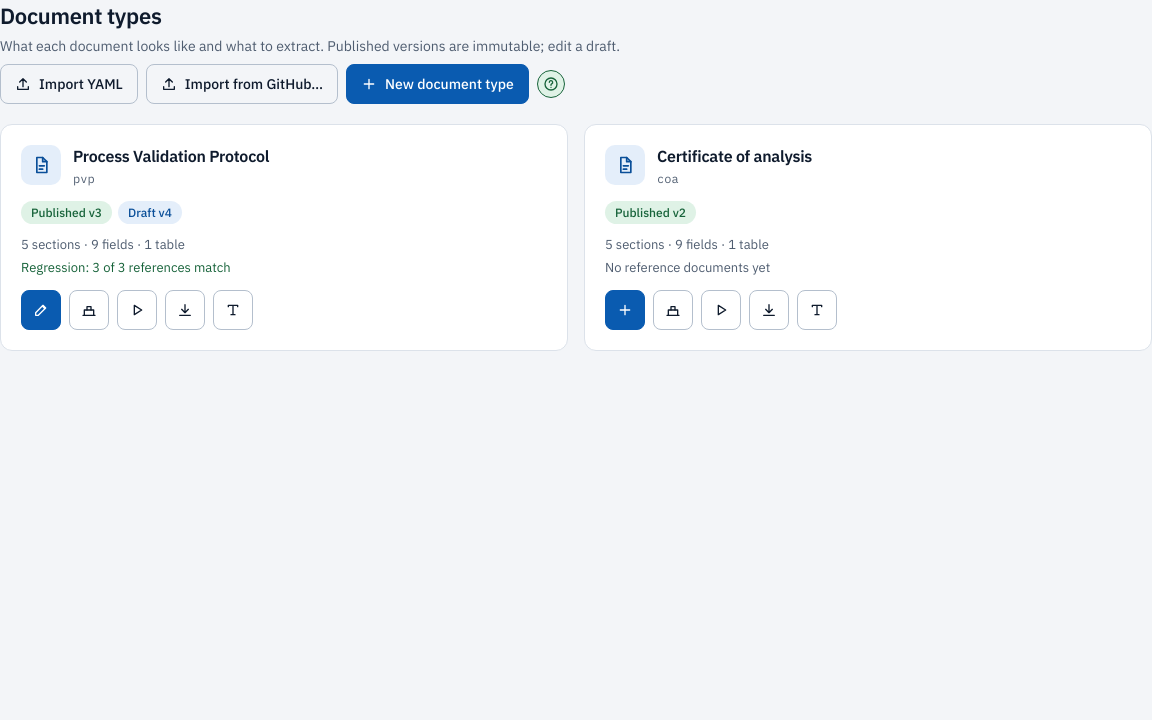
Test: TemplatesPage Rename… › keeps a refusal in the dialog
Click the button named "Rename Certificate of analysis…" at (817, 310), box [797, 290, 837, 330]
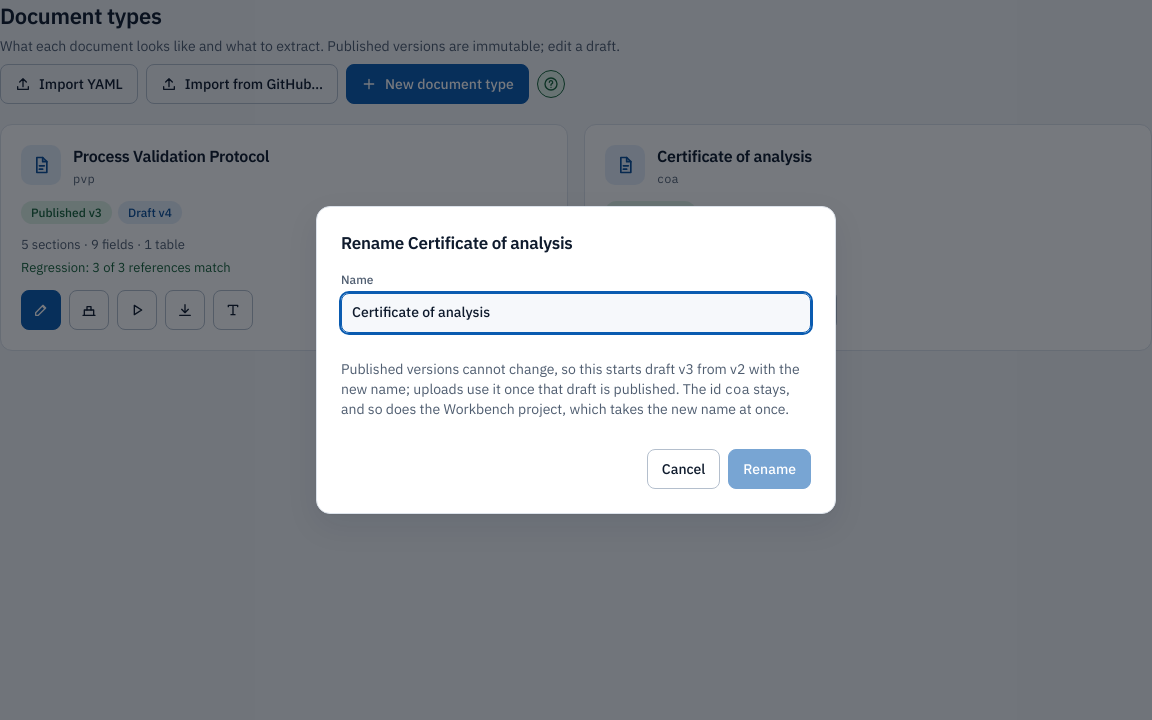
Type " (EU)" into the field labelled "Name" at (576, 313), box [341, 293, 811, 333]
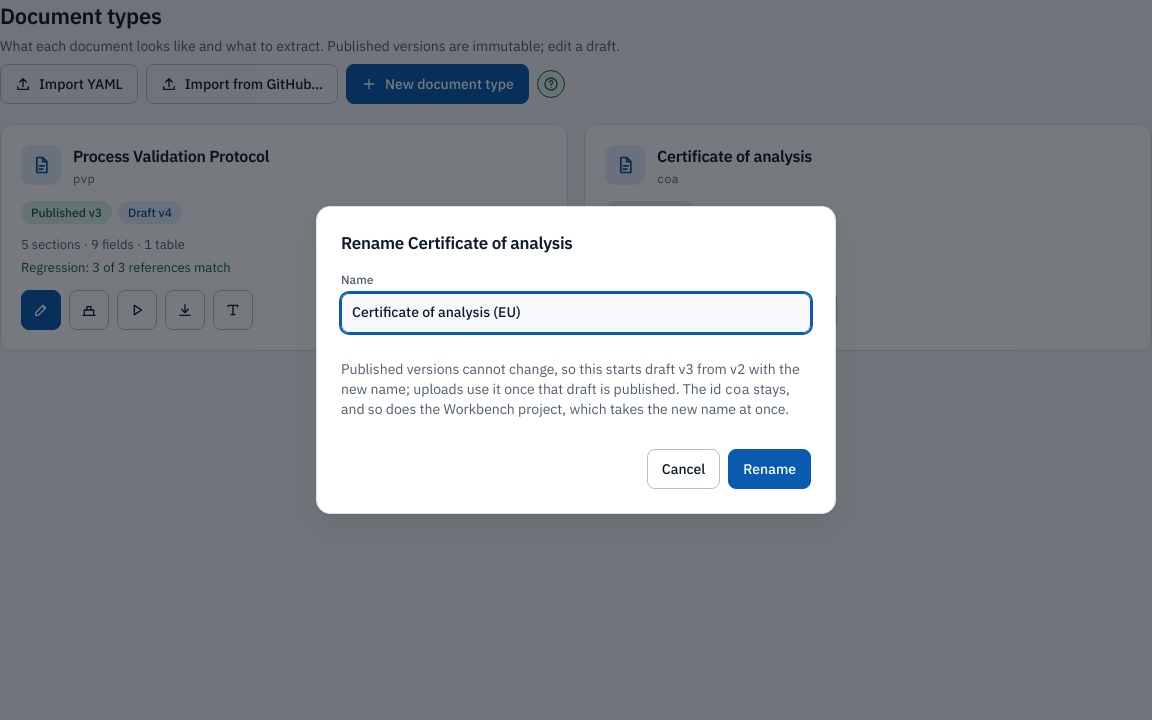
Click the button "Rename" at (770, 470), box [728, 450, 811, 490]
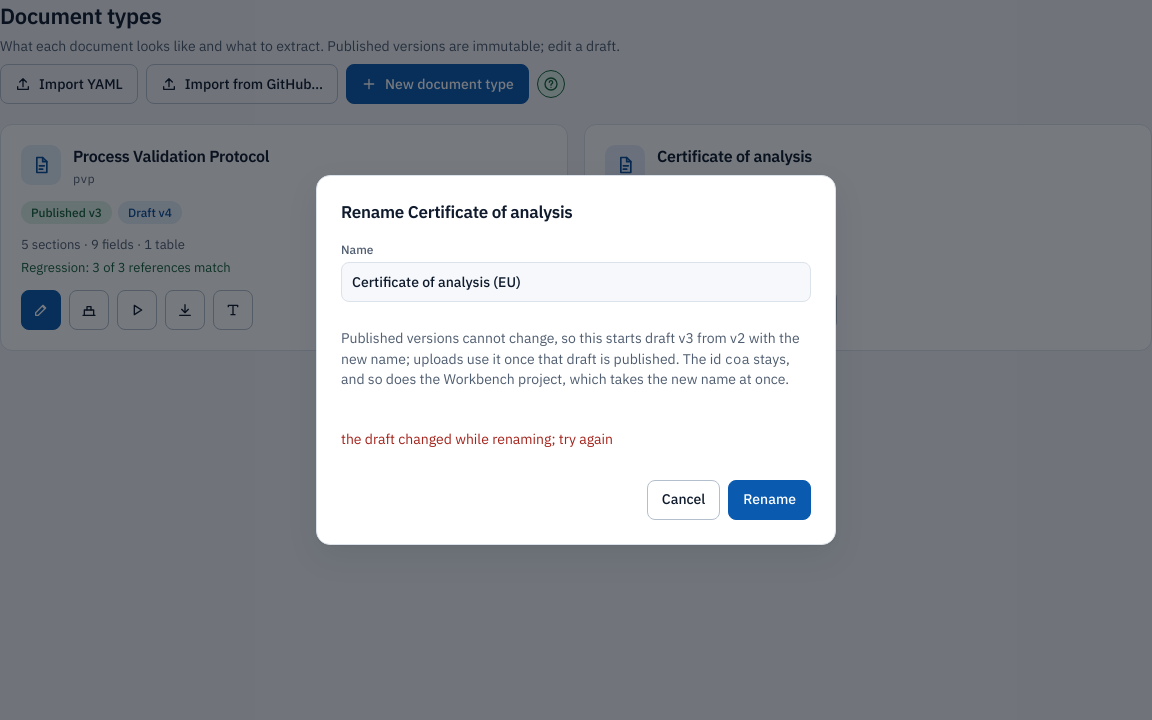
Check: the message reads "the draft changed while renaming; try again", box [341, 430, 613, 448]
